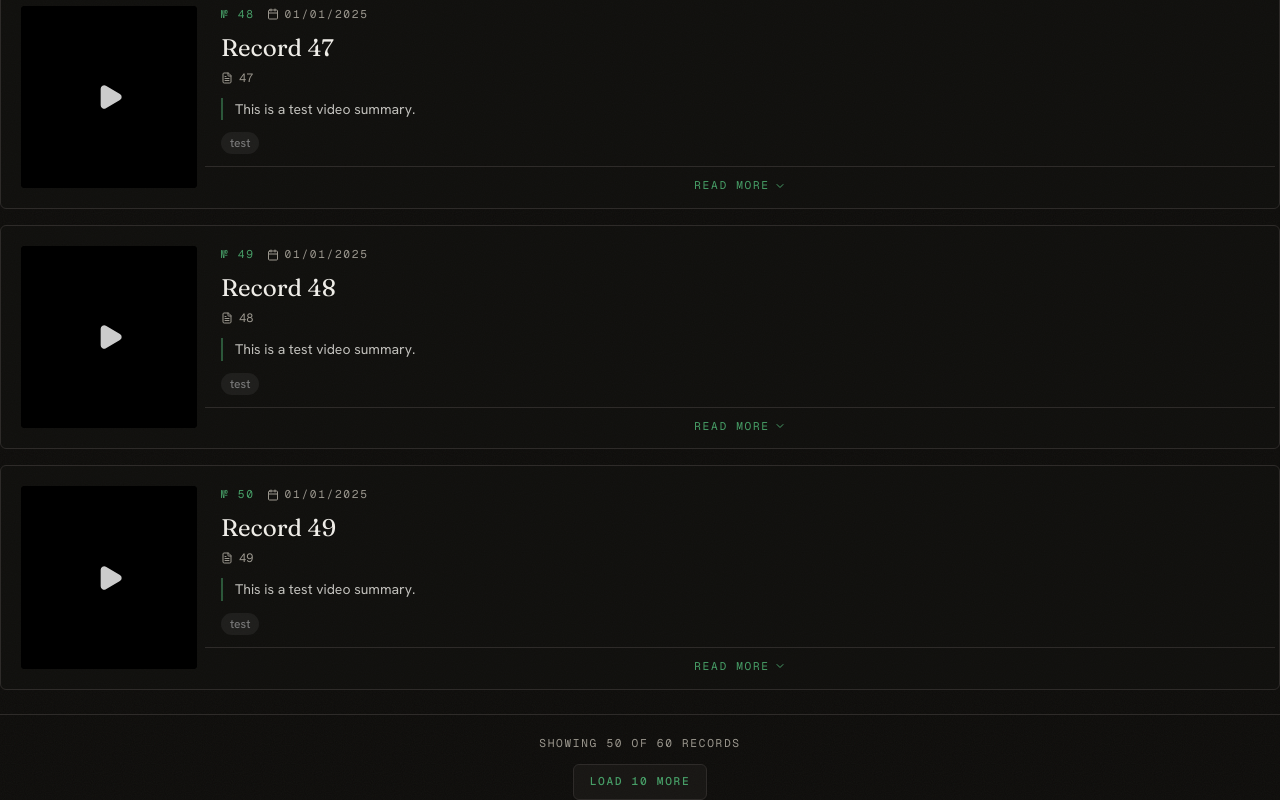
Scenario: VodDiaryScreen — paging and the honest count › drops a duplicate at the page seam when a new upload shifts the offsets
The width and height of the screenshot is (1280, 800).
(page scrolled)
Click the button "Load 10 more" at (640, 782), box x1=573 y1=764 x2=707 y2=799
(page scrolled)
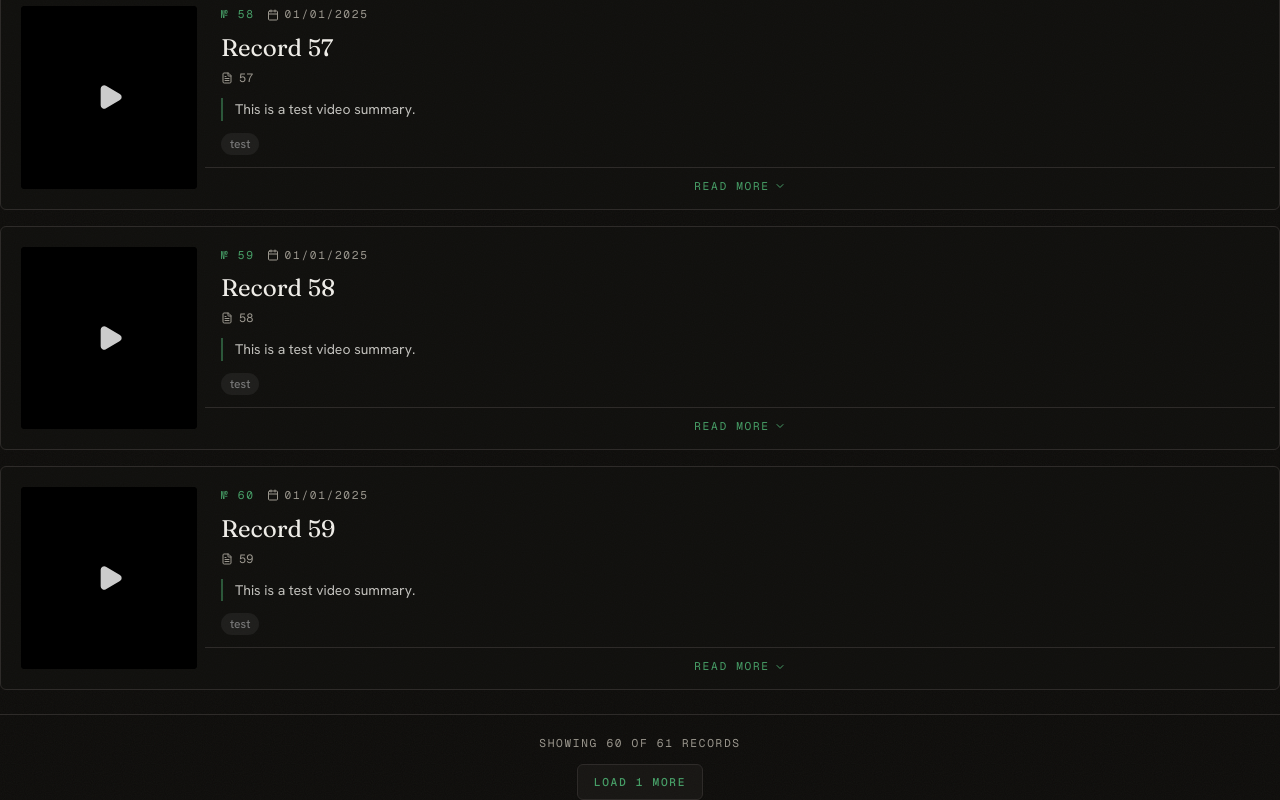
Expected: the heading "Record 59" is shown, x1=221 y1=514 x2=335 y2=543
